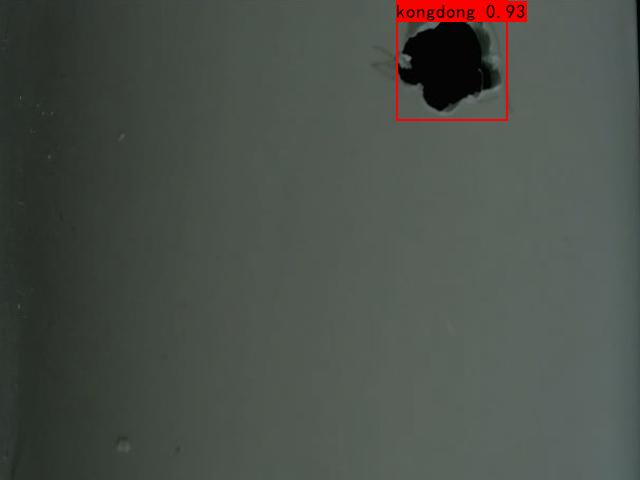kongdong: (387, 11, 505, 118)
